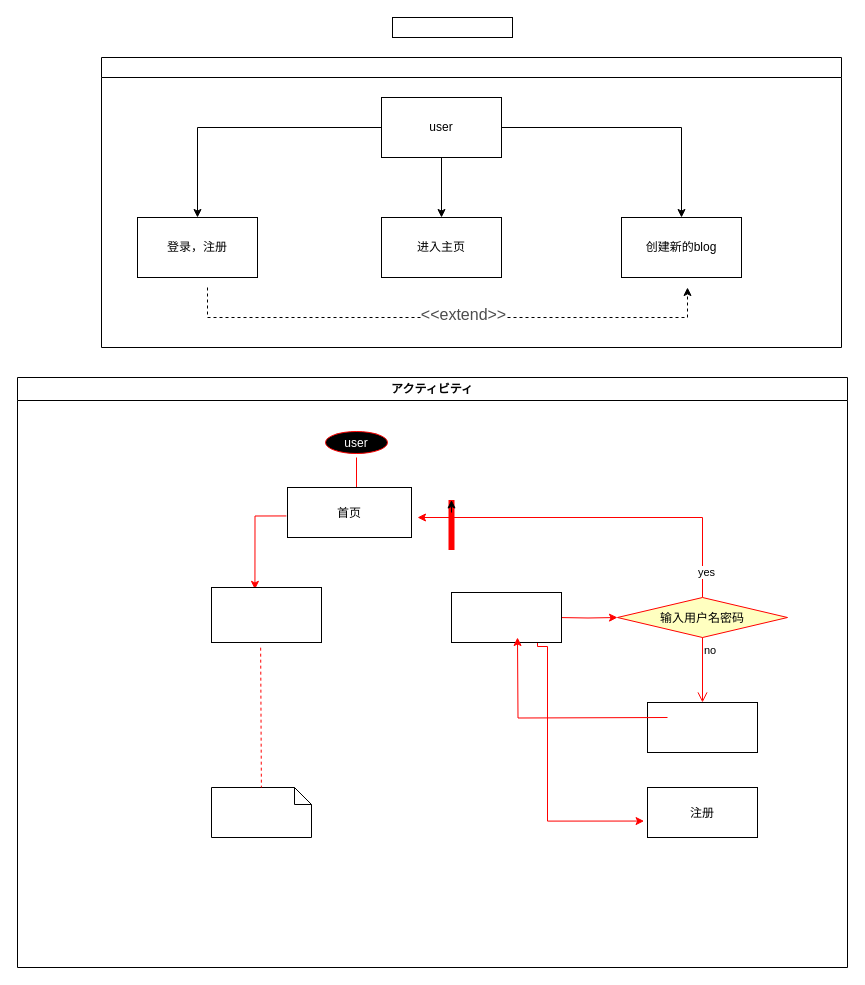
The diagram is 865 pixels wide and 985 high, and some of its shapes have lost their labels. The centre of each missing label's shape, as x and y in pixels:
"ユースケース図" belongs at point (452, 27).
"密码错误 返回登录界面" belongs at point (702, 727).
"文章" belongs at point (266, 614).
"登录" belongs at point (506, 617).
"编辑、新建blog" belongs at point (261, 812).
